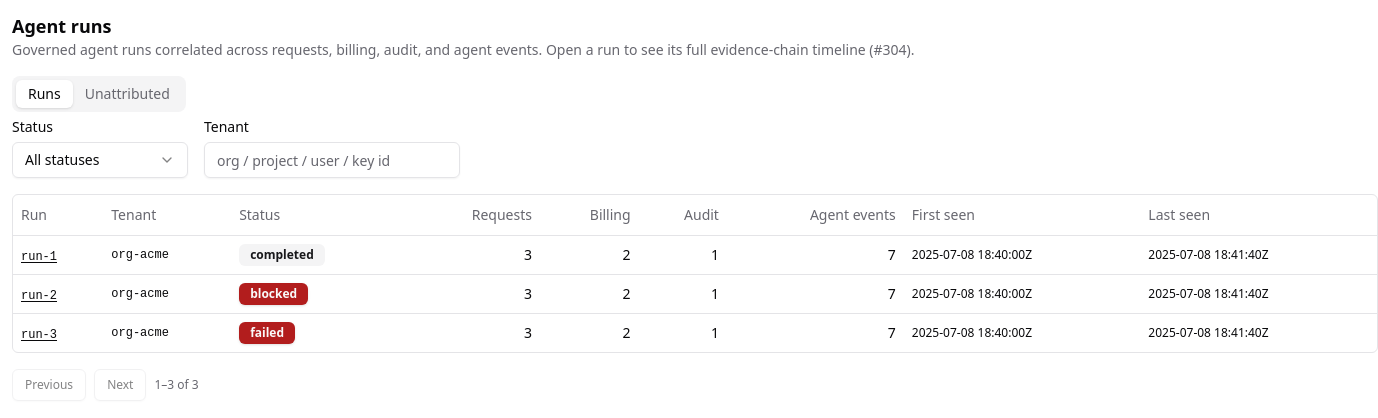
Scenario: AgentRunsPage › filters by status client-side (contract exposes only offset/limit)
Check: the link "run-1" is shown, box [21,250,57,264]
Step 1. Click the dropdown → (100, 160), box [12,142,188,178]
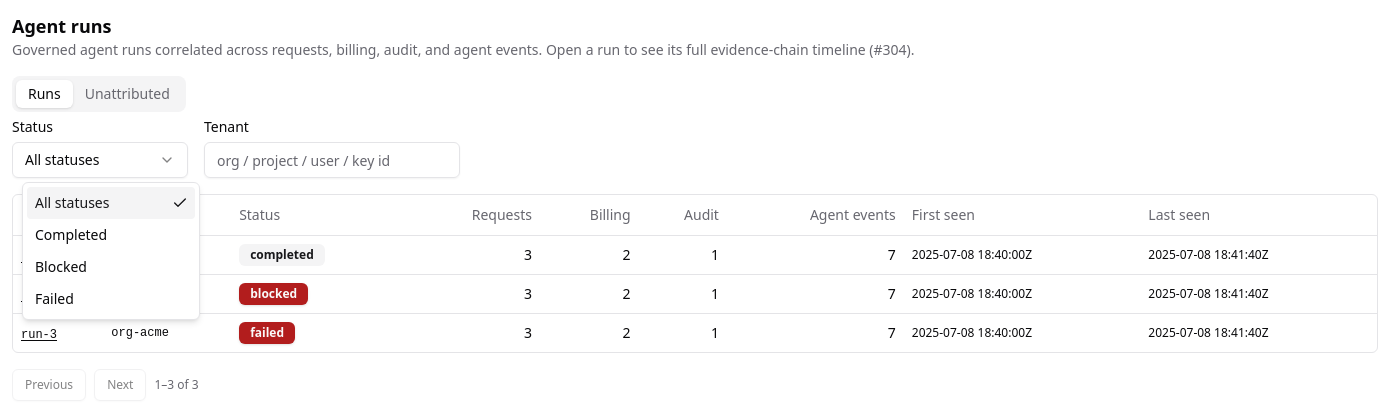
Step 2. Click the option "Blocked" → (61, 266), box [35,257,87,276]
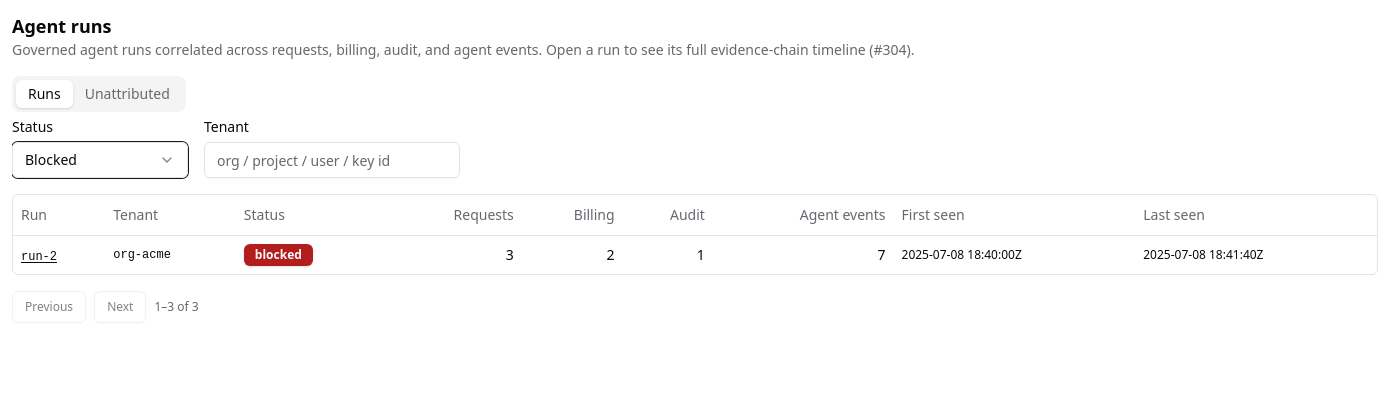
Check: the link "run-2" is shown, box [21,250,57,264]
Check: the link "run-1" is gone
Check: the link "run-3" is gone
round-trip back to all statuses
Step 3. Click the dropdown → (100, 160), box [12,142,188,178]
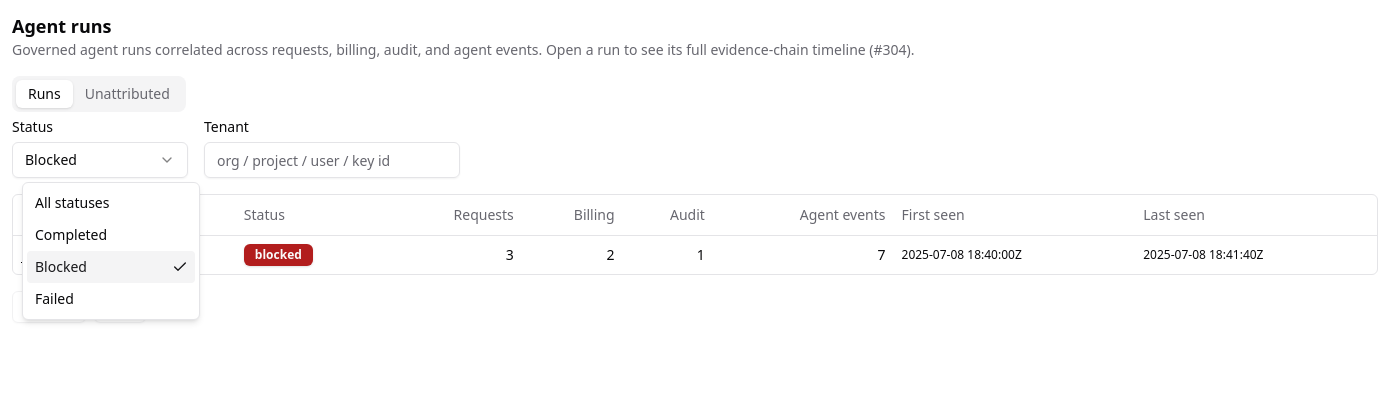
Step 4. Click the option "All statuses" → (72, 202), box [35,193,110,212]
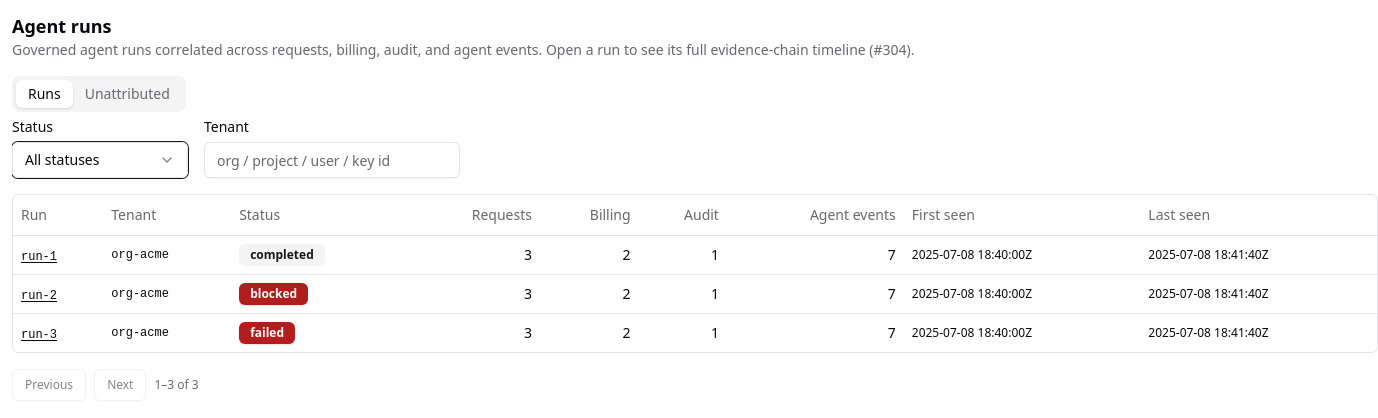
Check: the link "run-1" is shown, box [21,250,57,264]
Check: the link "run-3" is shown, box [21,328,57,342]
